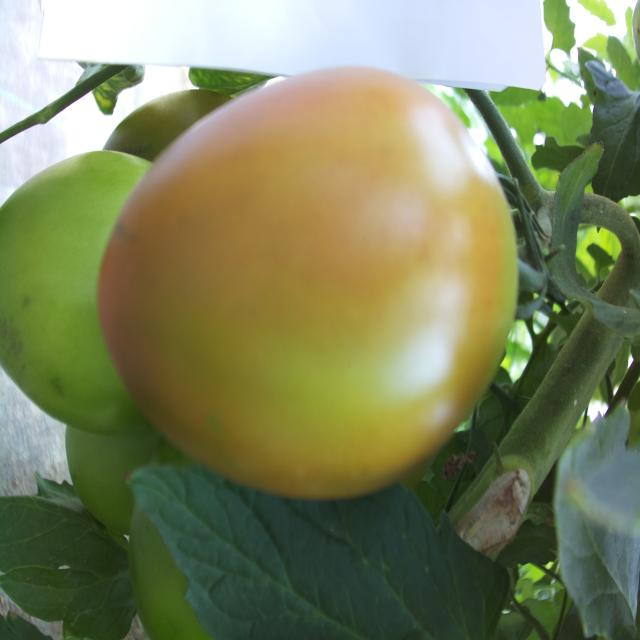yesil: (102, 120, 536, 474)
